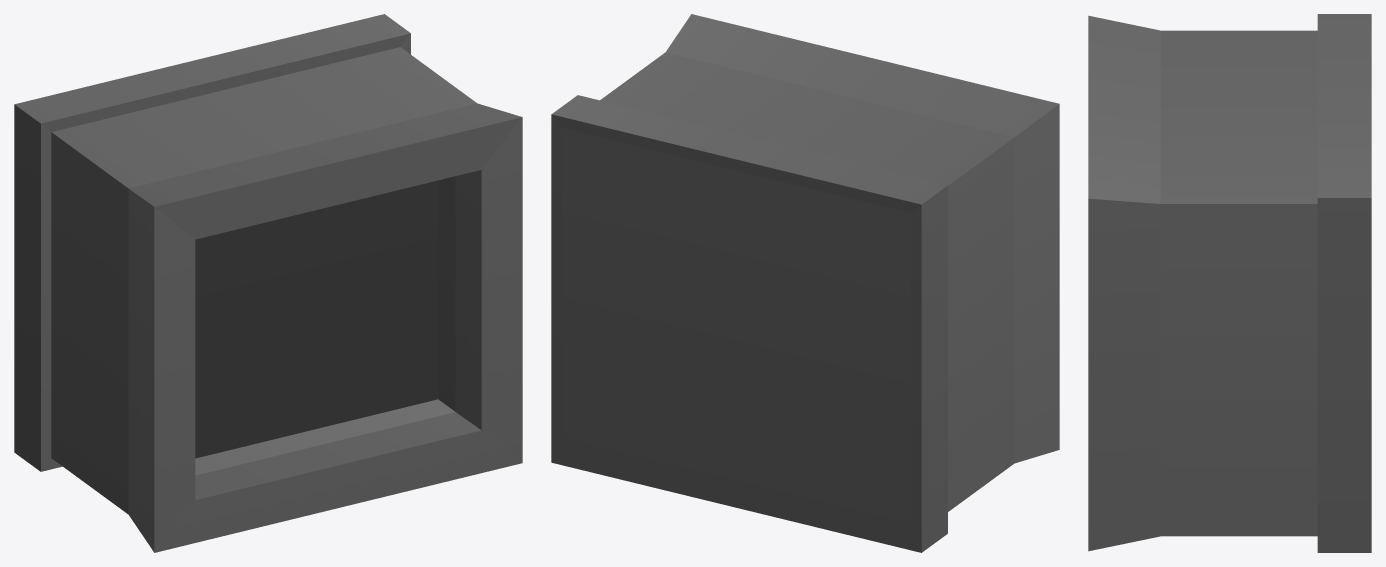
File: TuboSalidaPaquetes.fbx
3 renders of one model, left to right at view 1: azimuth 30°, elevation 25°; view 2: azimuth 150°, elevation 25°; view 3: azimuth 270°, elevation 25°, orthographic.
Parts seen in each view (by area): view 1: Box015; view 2: Box015; view 3: Box015.
Boxes of the visible parts, left/top/right/bottom form: Box015: left=14, top=14, right=522, bottom=552; Box015: left=551, top=14, right=1059, bottom=552; Box015: left=1088, top=14, right=1371, bottom=552.
Bounding box in the file's own units: 38.98 × 35.06 × 25.35.
